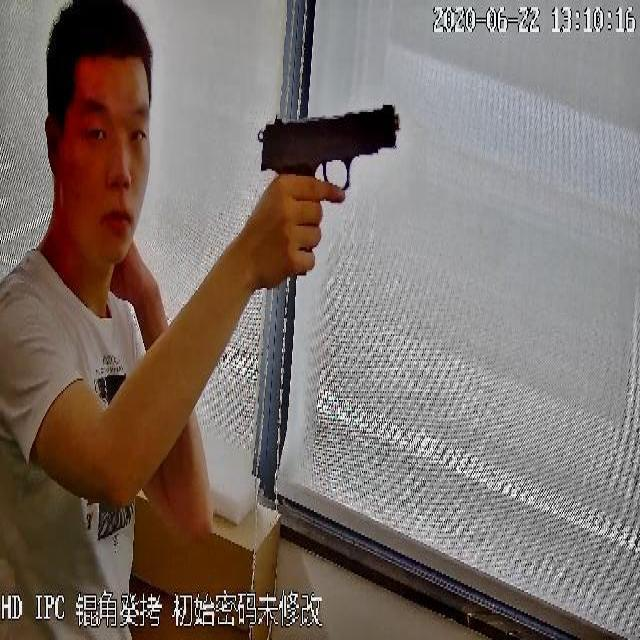pistol: (258, 102, 400, 194)
